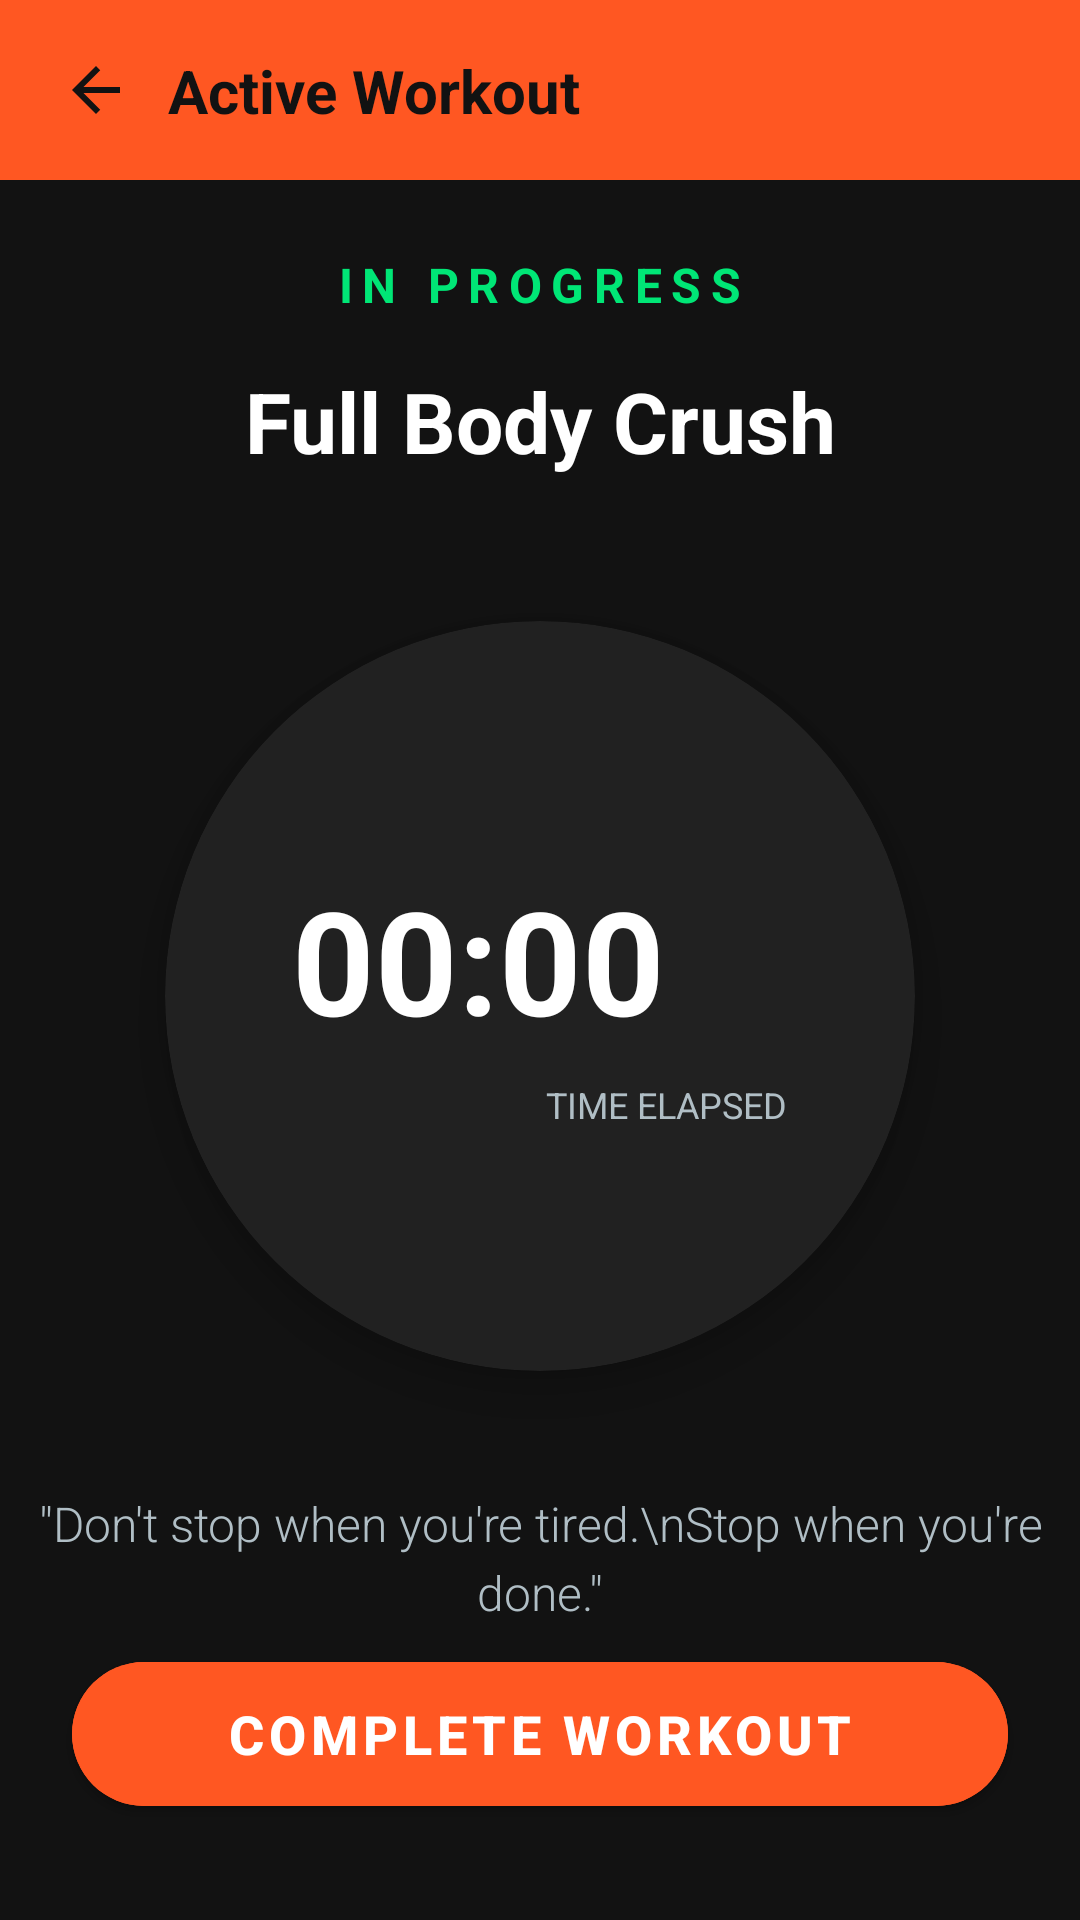

Icon click points for this 1080px×1920px phone screenshot, format point (x, y):
arrow back: point (96, 90)
